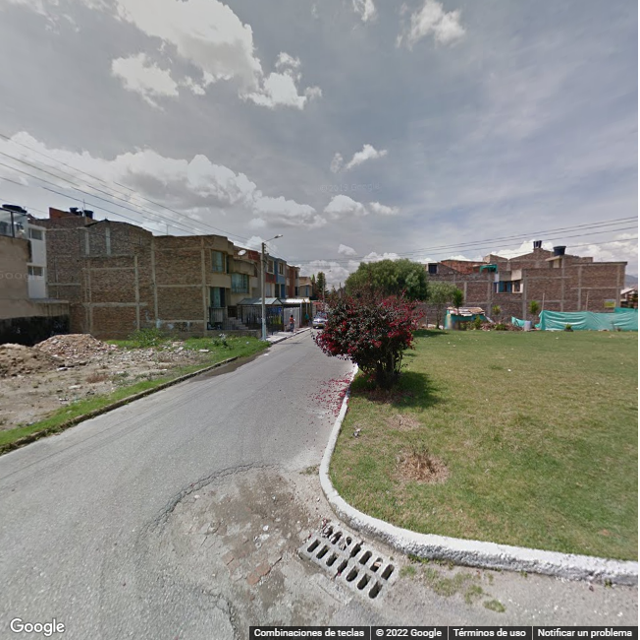D40: (162, 458, 289, 601)
